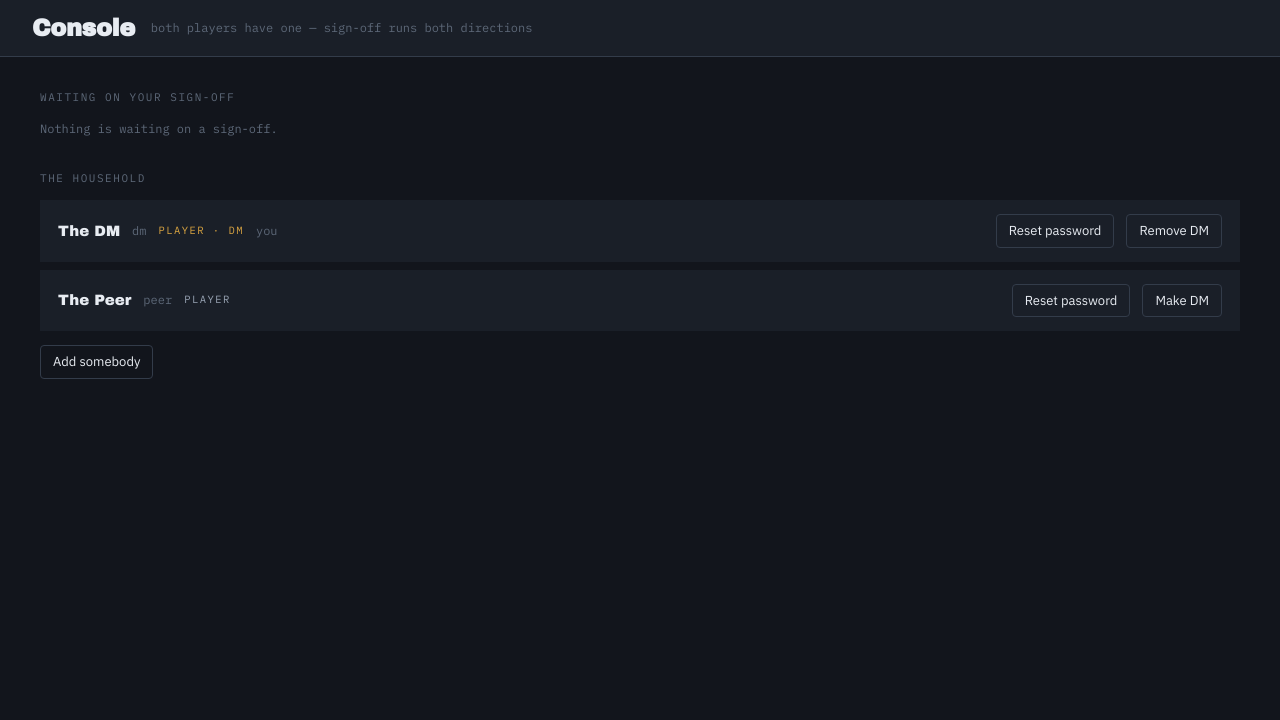
Test case: the three acts › says a handle is taken rather than reporting a failure
expect the heading "Console" is shown: met, box [32,10,135,46]
Click the button "Add somebody" at (97, 362), box [40,345,153,378]
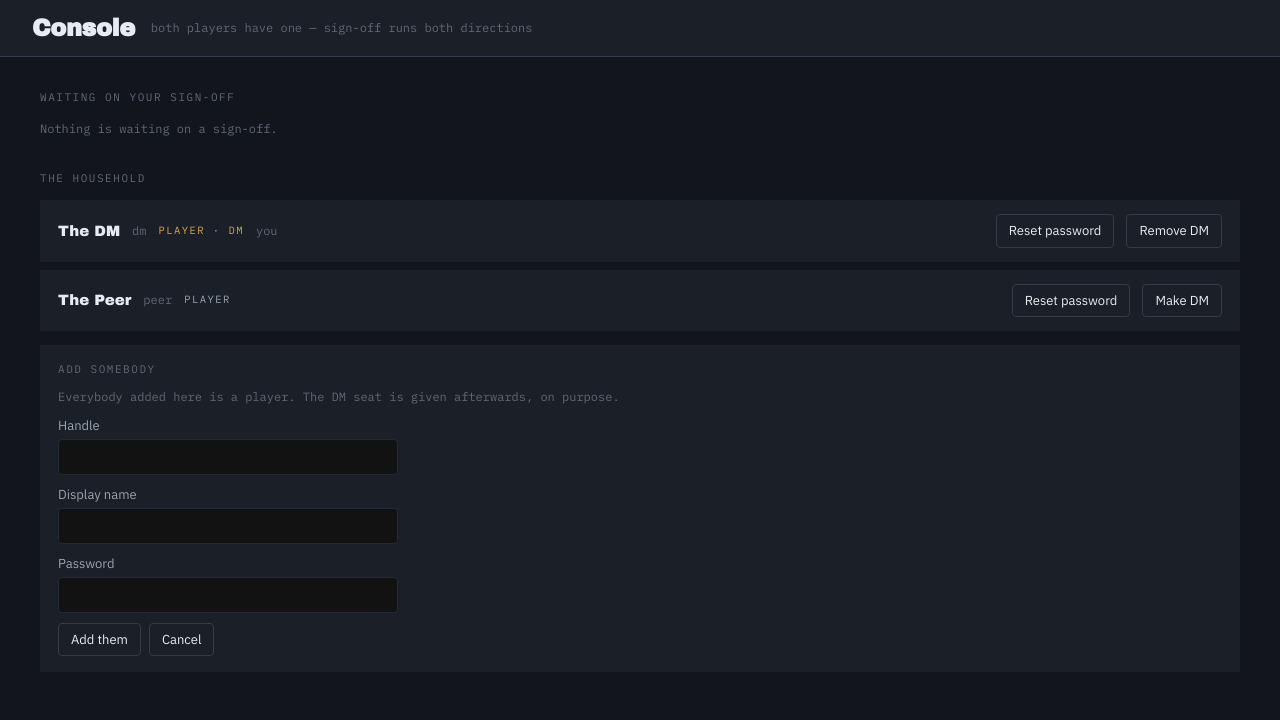
Type "ada" into the field labelled "Handle" at (228, 457), box [58,439,398,474]
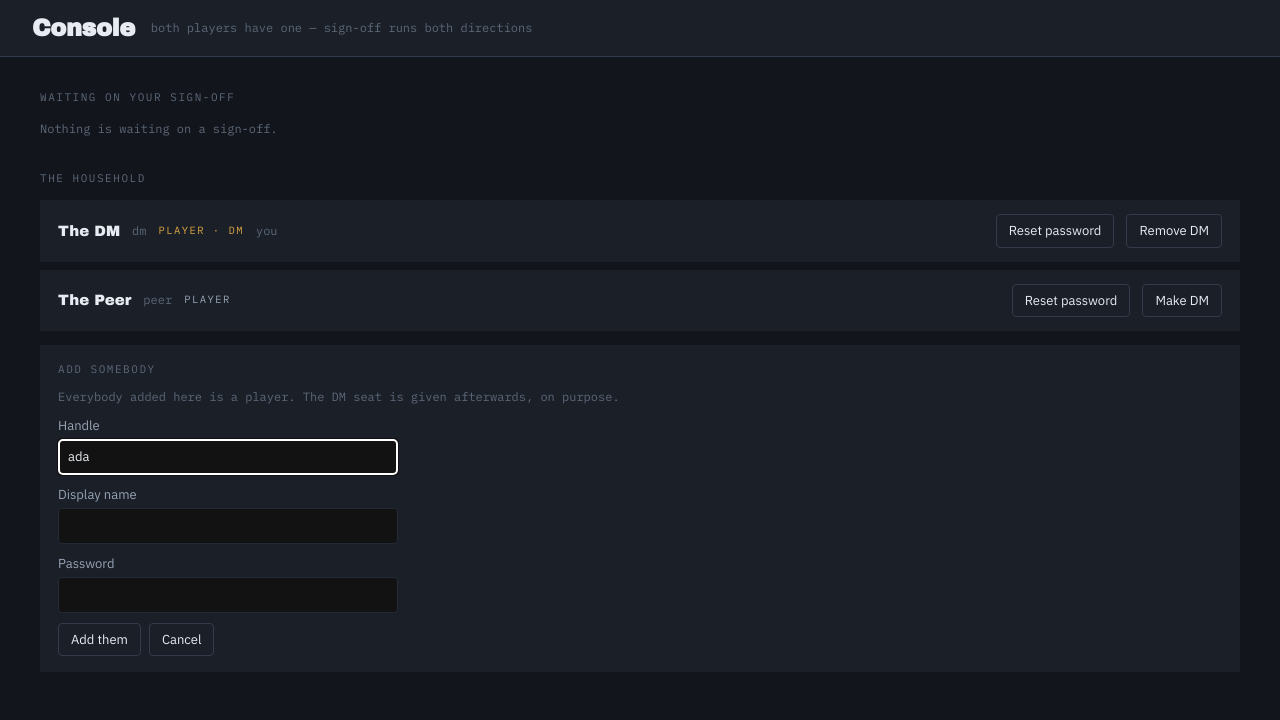
Type "Ada" into the field labelled "Display name" at (228, 526), box [58,508,398,544]
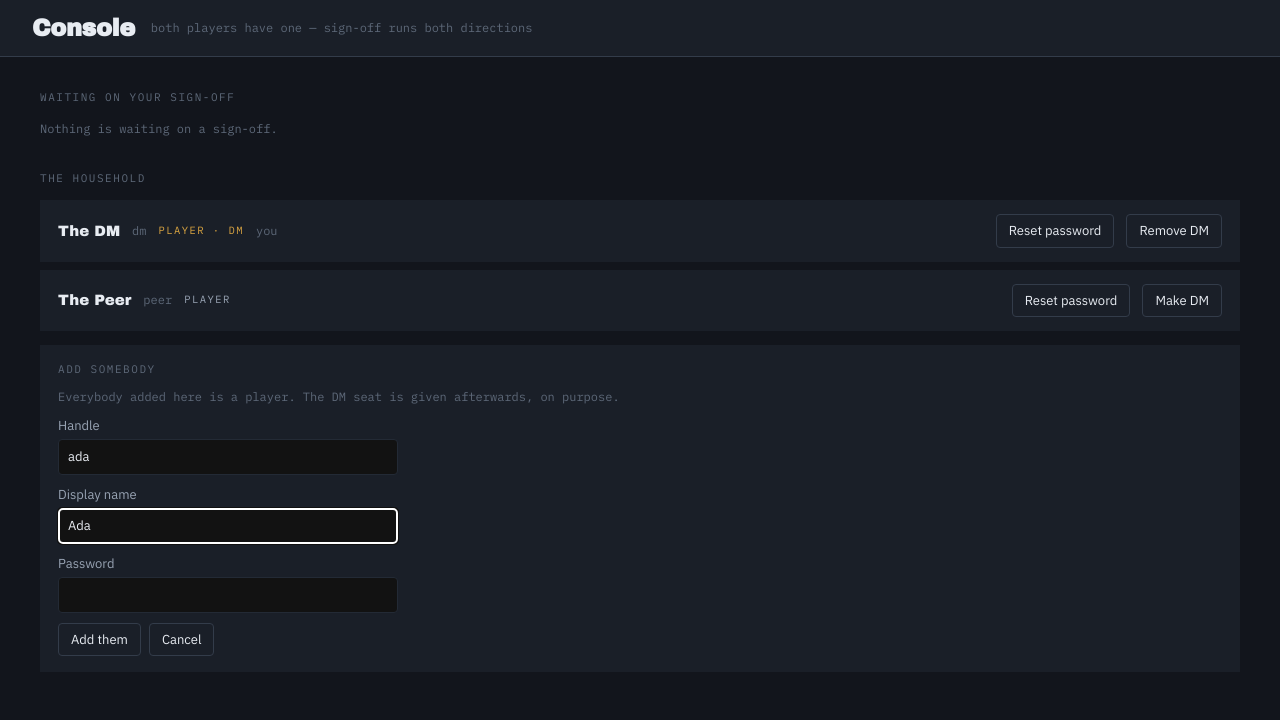
Type "x" into the password field labelled "Password" at (228, 595), box [58,577,398,612]
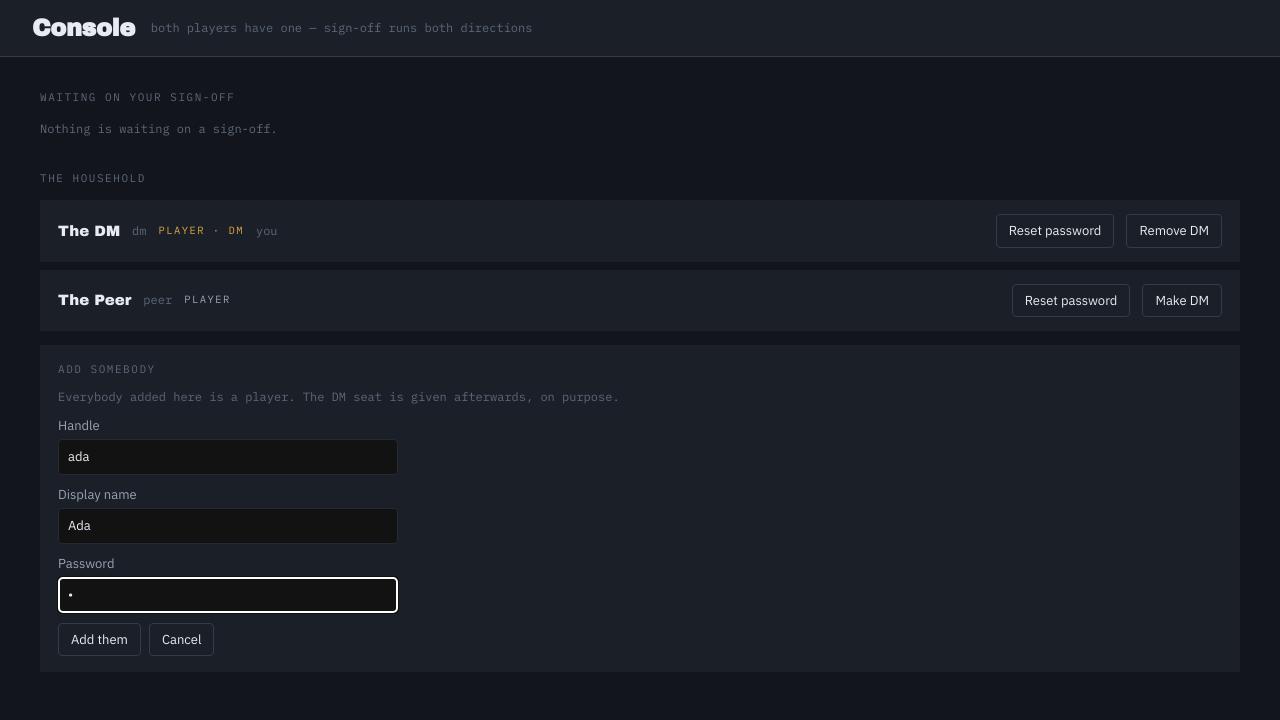
Click the button "Add them" at (99, 639), box [58,622,141,656]
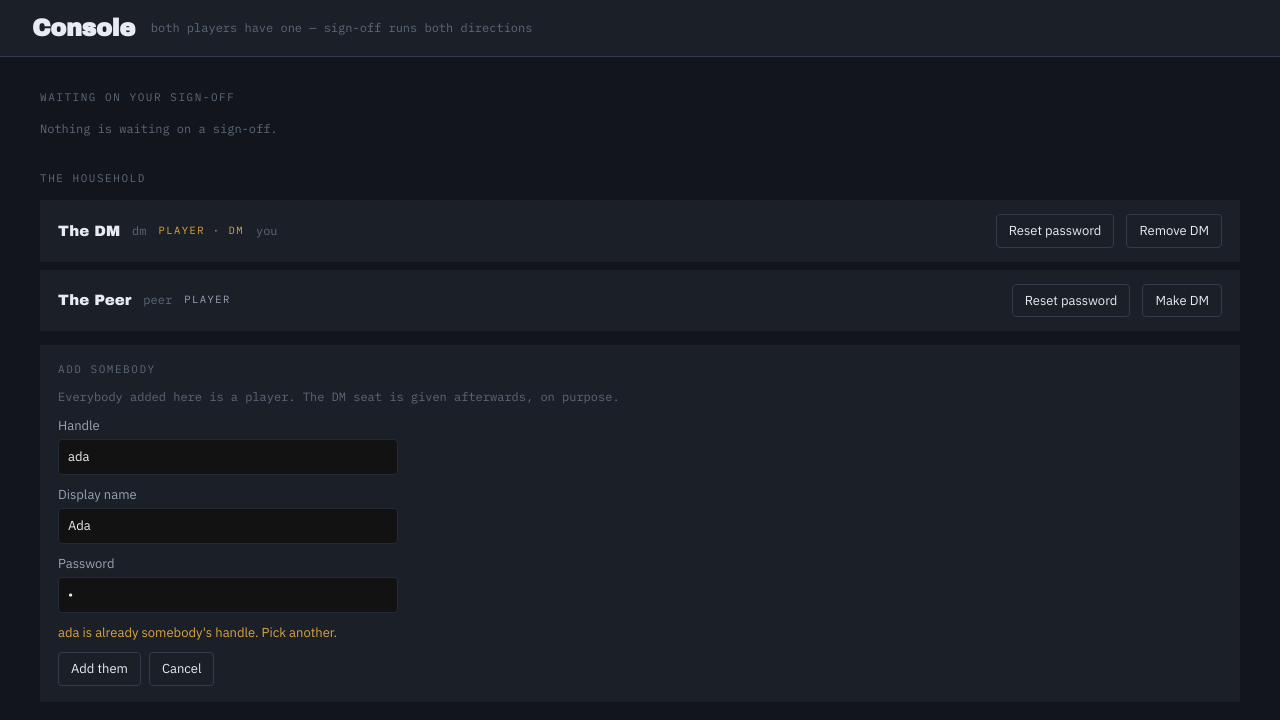
expect the message shows "already somebody's handle": met, box [58,624,337,640]
